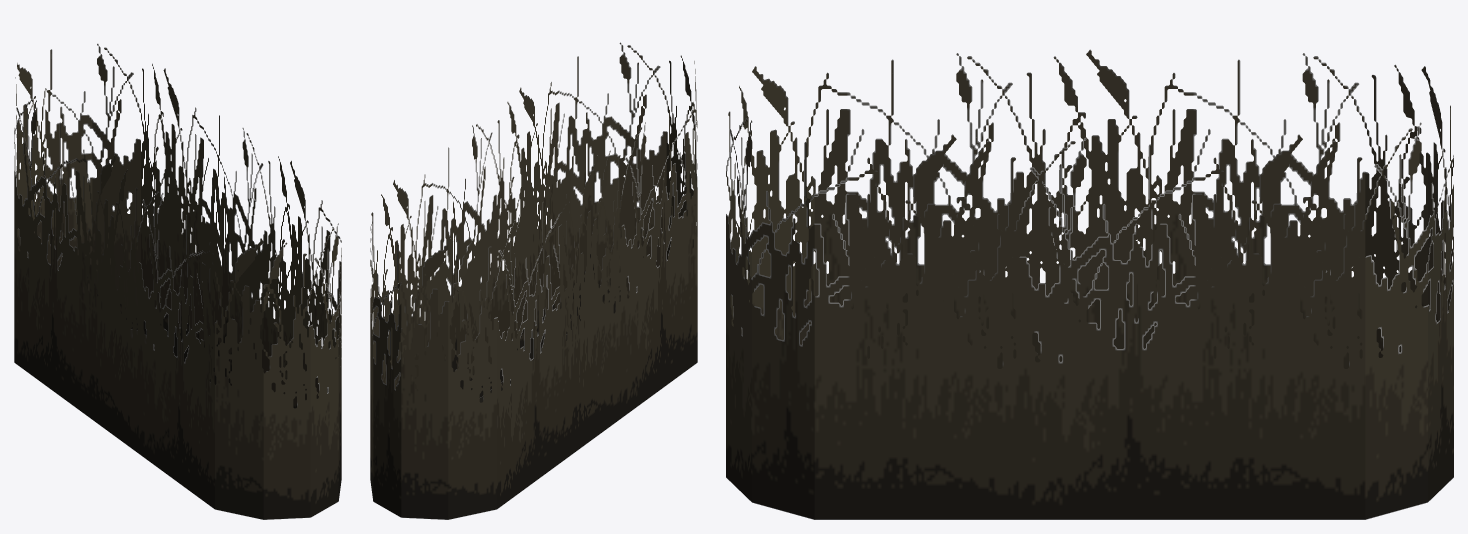
The model's file is Foliage2V3FBX.fbx.
3 views of the same model, side by side, from view 1: azimuth 30°, elevation 25°; view 2: azimuth 150°, elevation 25°; view 3: azimuth 270°, elevation 25° (orthographic). The views are drawn at different scales.
Visible parts, largest first — view 1: FoliageB.001; view 2: FoliageB.001; view 3: FoliageB.001.
Part boxes in pixels (x1,y1,x2,y2): FoliageB.001: (14, 43, 341, 519); FoliageB.001: (370, 42, 697, 519); FoliageB.001: (726, 49, 1453, 519).
Bounding box in the file's own units: 457 × 1059 × 1659.
